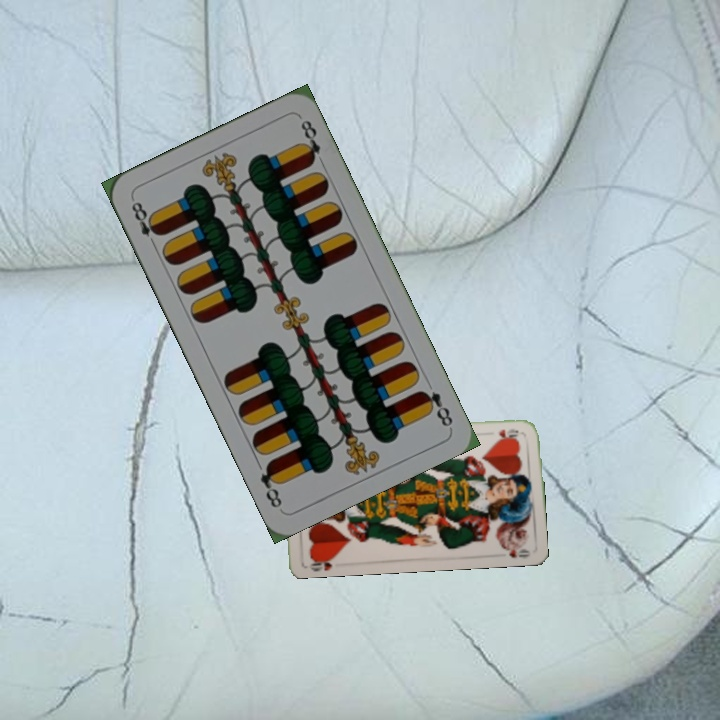E8: (127, 195, 164, 251), (416, 386, 456, 430)
HO: (305, 552, 339, 573), (493, 424, 523, 442)
